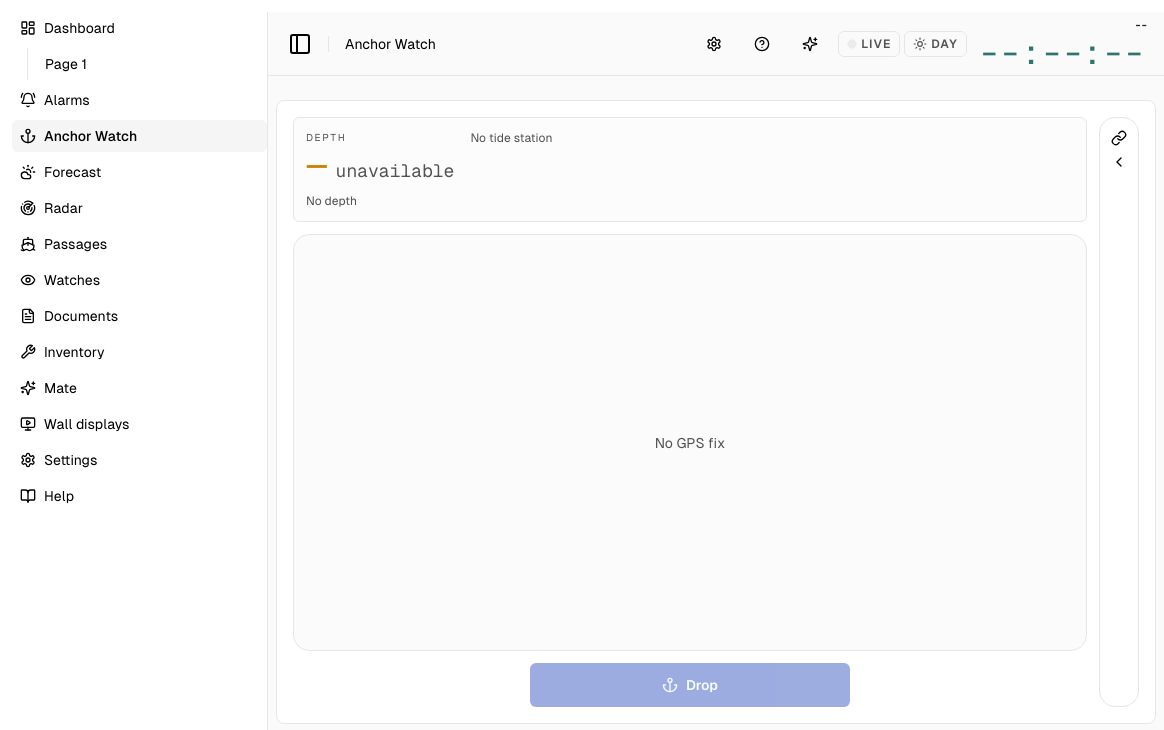
it: App header settings-for-this-page button › clicking it on Anchor Watch opens Settings with the Anchor Watch section active
The image size is (1164, 730).
Step 1. Click the button named "Anchor Watch settings" → (714, 44), box [694,24,734,64]
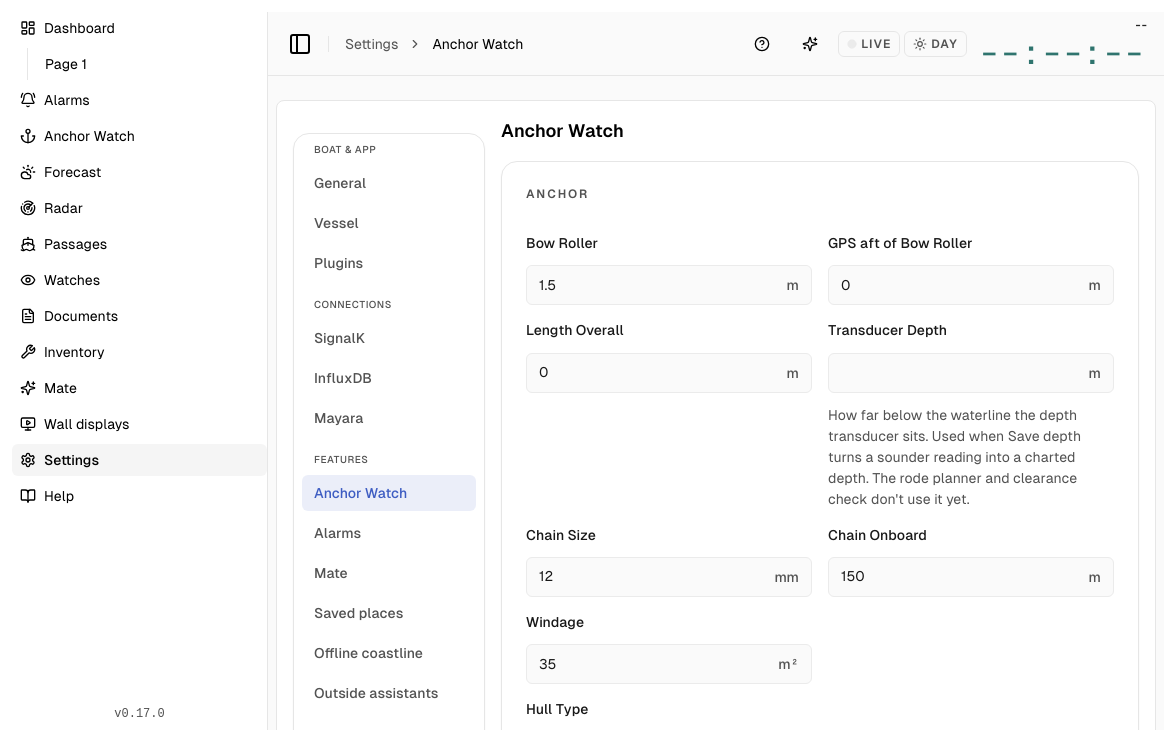
expect the link "Anchor Watch" is shown: met, box [432,34,523,54]
expect the text "Settings" in the row of "Live" is shown: met, box [345,36,398,52]
